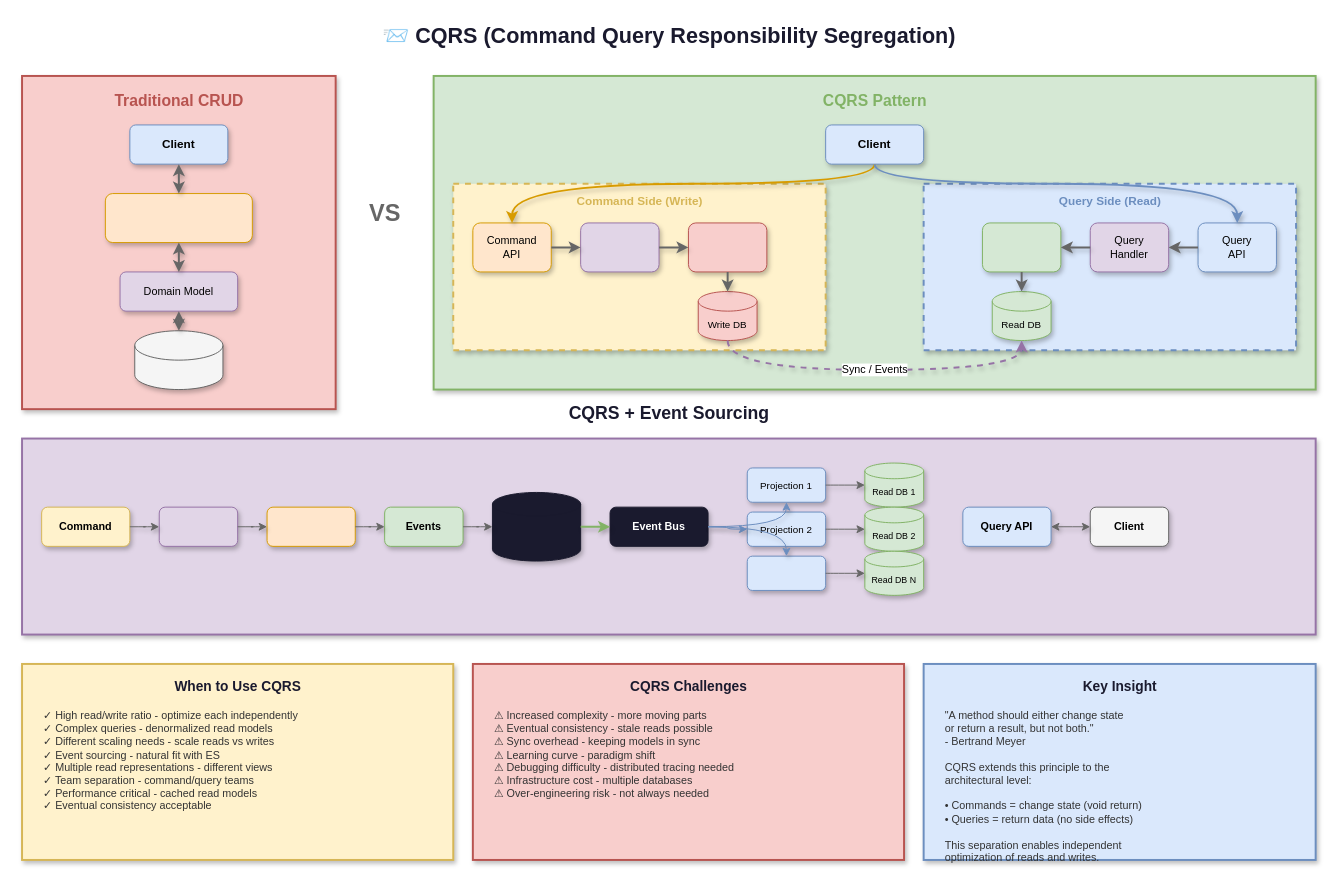
The diagram is 1339 pixels wide and 884 high, and some of its shapes have lost their labels. The shapes that lost their labels are listed below. From the top down, each one's centre as x and y in pixels, then its label:
point (179, 219): Single API (CRUD Operations)
point (620, 248): Command Handler
point (728, 248): Write Model
point (1022, 248): Read Model
point (179, 361): Single Database
point (199, 527): Handler
point (311, 527): Aggregate
point (537, 528): Event Store
point (787, 574): Projection N
